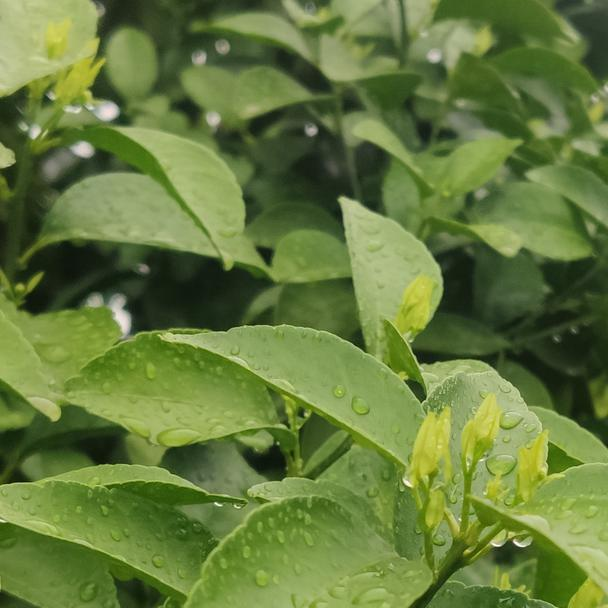shoot: (402, 412, 455, 513), (450, 393, 502, 485), (381, 278, 437, 347)
